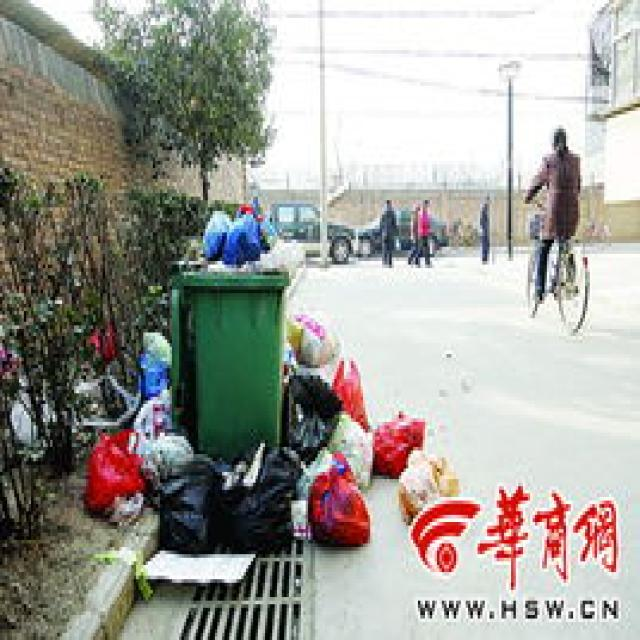garbage: (74, 308, 459, 597)
overflow: (167, 200, 284, 458)
